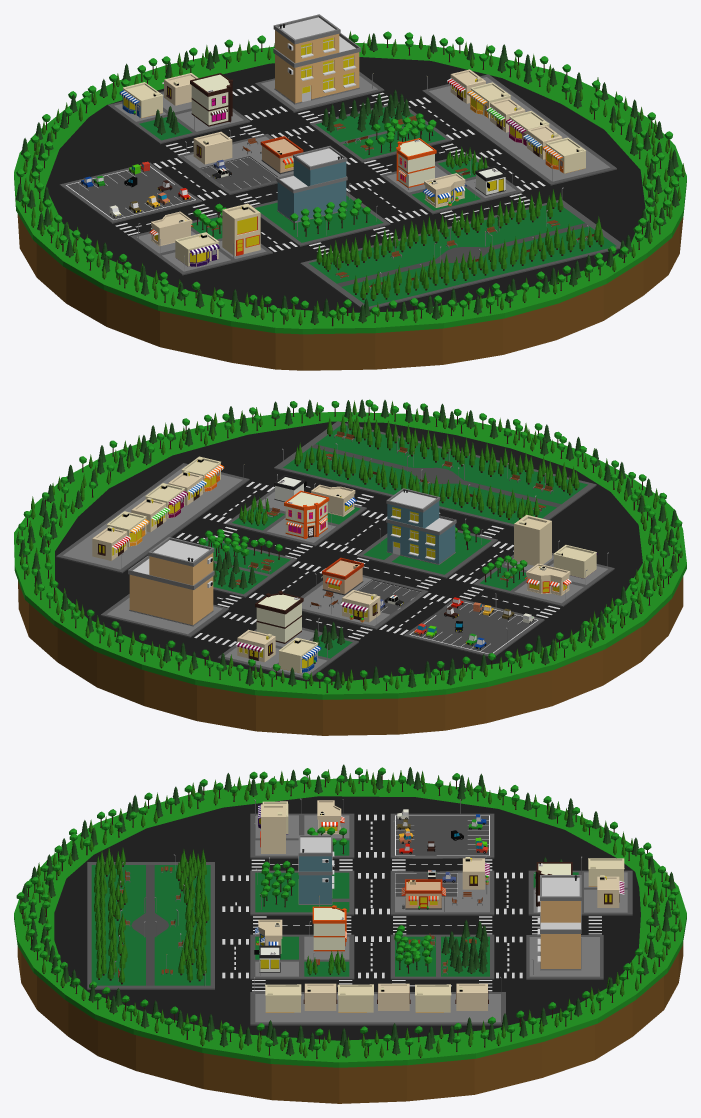
File: city2.fbx
3 renders of one model, top to bottom at view 1: azimuth 30°, elevation 25°; view 2: azimuth 150°, elevation 25°; view 3: azimuth 270°, elevation 25°, orthographic.
Visible parts, largest first — view 1: città, Plane.036, superpino.008, Plane, villa.002, villa, pino.006, pino.008, albergo.002, casu, albergo, pino.007 (+17 smaller); view 2: città, Plane.036, superpino.008, Plane, villa.002, villa, albergo.002, pino.009, albergo, casu, pino.010, pino.007 (+16 smaller); view 3: città, Plane.036, superpino.008, Plane, villa.002, villa, albergo, pino.010, casu, pino.009, pino.006, pino.007 (+15 smaller).
Boxes of the visible parts, <box> form: città: <box>14,43,686,370</box>; Plane.036: <box>59,71,625,309</box>; superpino.008: <box>15,31,685,326</box>; Plane: <box>177,102,522,246</box>; villa.002: <box>273,14,360,104</box>; villa: <box>276,146,347,222</box>; pino.006: <box>370,227,603,300</box>; pino.008: <box>322,192,563,271</box>; albergo.002: <box>190,73,233,126</box>; casu: <box>222,203,260,256</box>; albergo: <box>396,138,436,187</box>; pino.007: <box>353,222,599,295</box>; città: <box>14,412,686,735</box>; Plane.036: <box>56,421,614,680</box>; superpino.008: <box>16,399,682,692</box>; Plane: <box>198,488,497,629</box>; villa.002: <box>128,537,214,626</box>; villa: <box>386,488,456,564</box>; albergo.002: <box>255,591,303,643</box>; pino.009: <box>294,447,528,519</box>; albergo: <box>284,490,329,538</box>; casu: <box>514,514,551,565</box>; pino.010: <box>309,417,579,519</box>; pino.007: <box>340,414,572,495</box>; città: <box>14,778,686,1103</box>; Plane.036: <box>87,813,632,1025</box>; superpino.008: <box>16,764,682,1058</box>; Plane: <box>250,870,494,979</box>; villa.002: <box>537,875,581,970</box>; villa: <box>298,835,334,904</box>; albergo: <box>312,905,346,951</box>; pino.010: <box>103,848,209,984</box>; casu: <box>260,804,285,853</box>; pino.009: <box>193,849,206,981</box>; pino.006: <box>94,850,106,979</box>; pino.007: <box>104,847,125,980</box>.
Size of the model in its own units: 13511 by 2420 by 13533.
